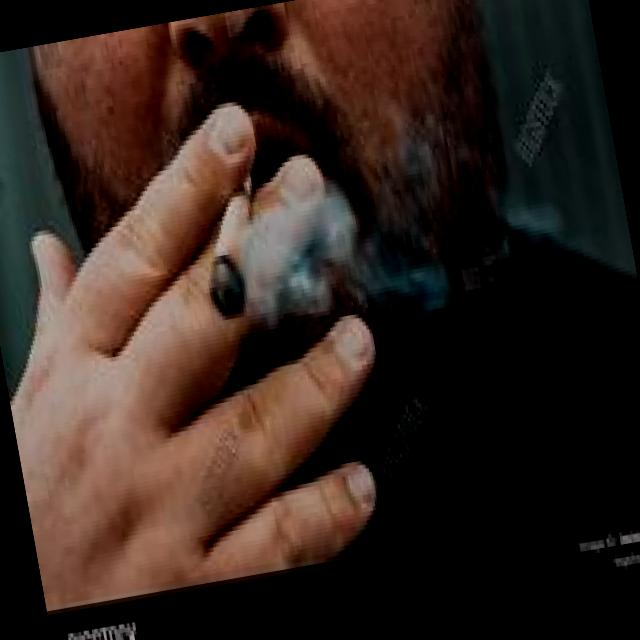smoke: (185, 155, 276, 322)
